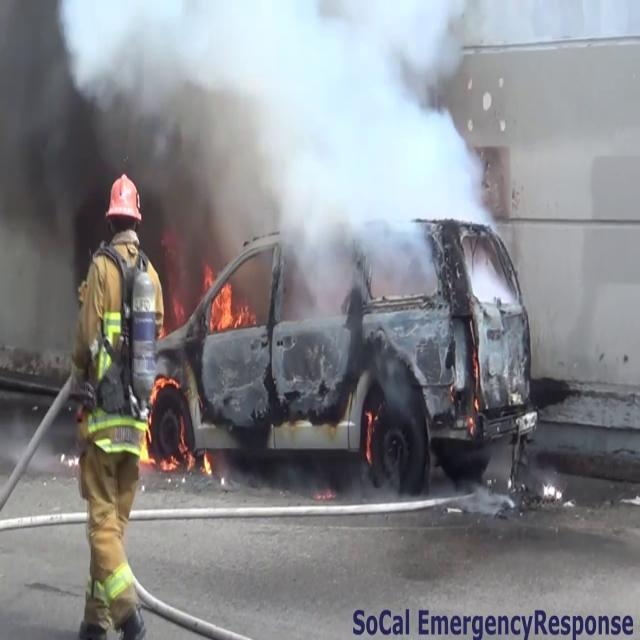Fire: (209, 273, 255, 335)
Smoke: (1, 0, 504, 331)
